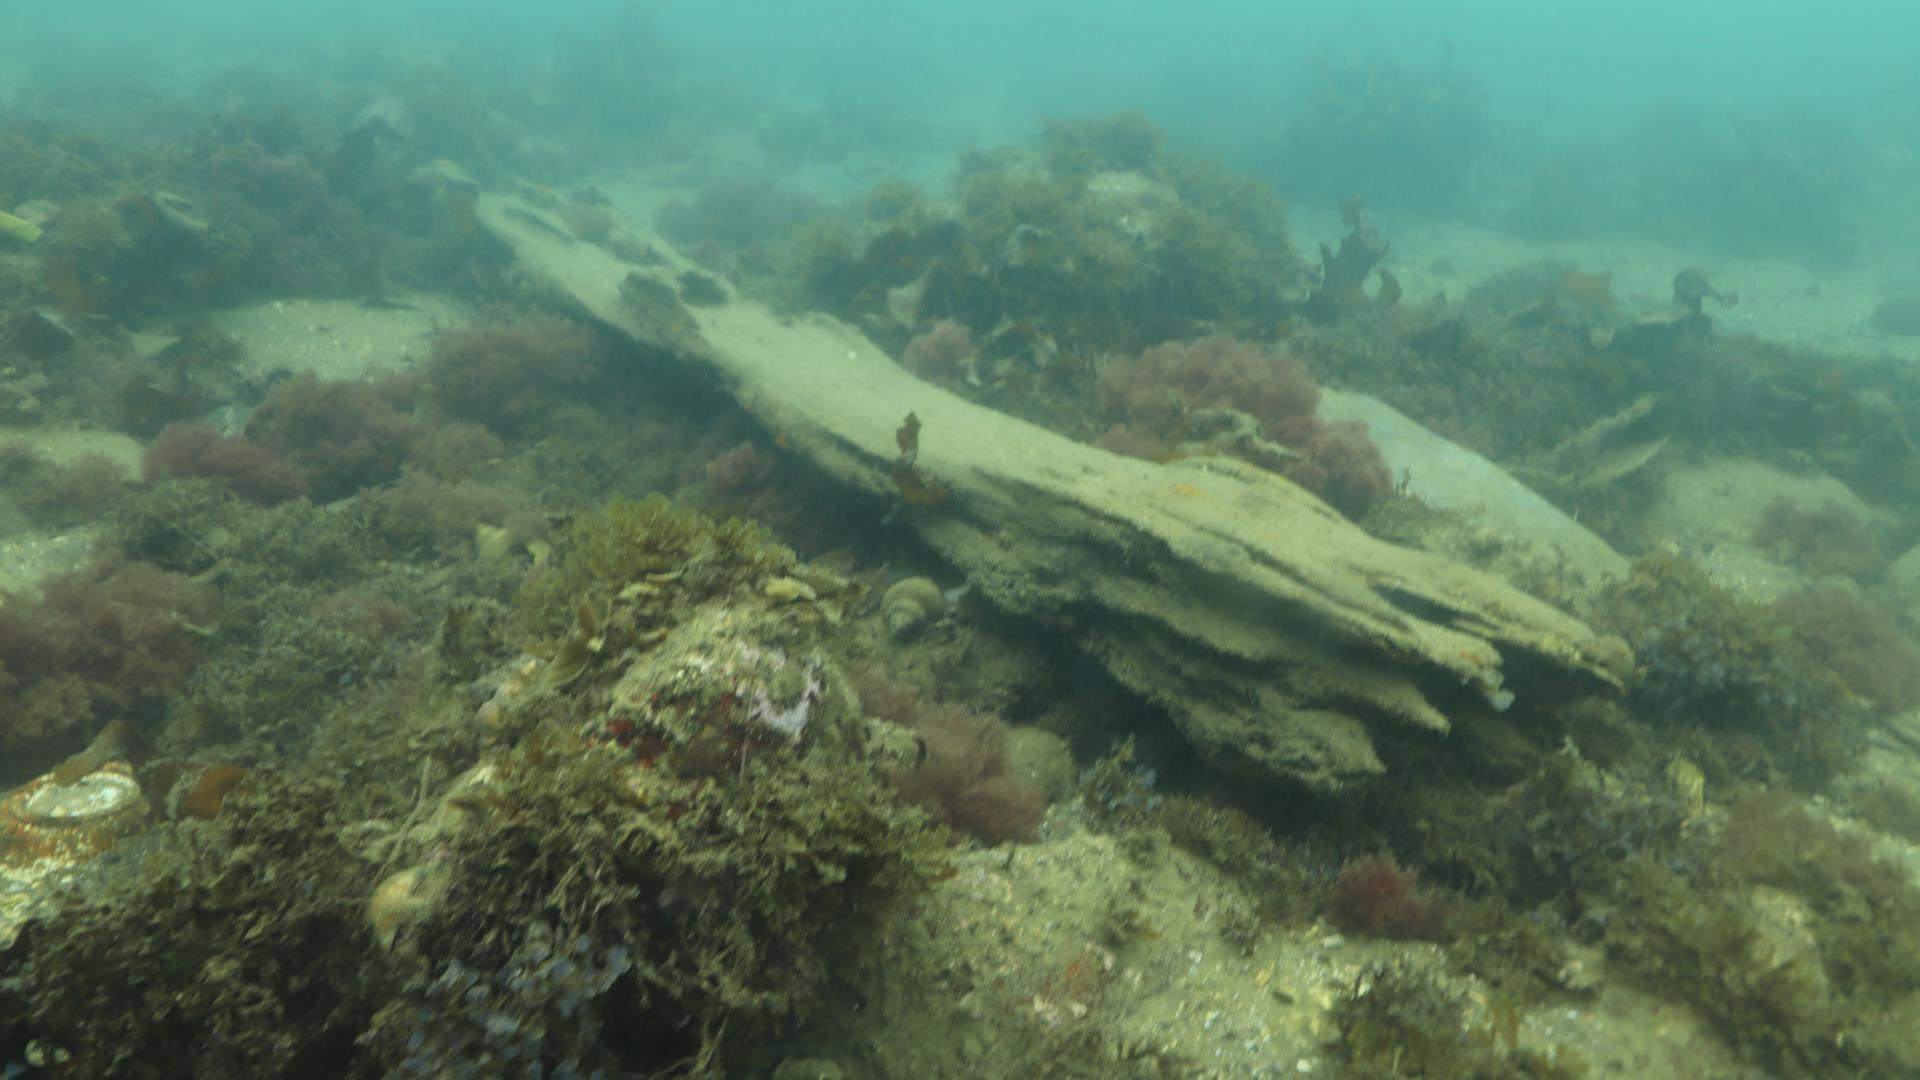wood: (469, 170, 1636, 798)
